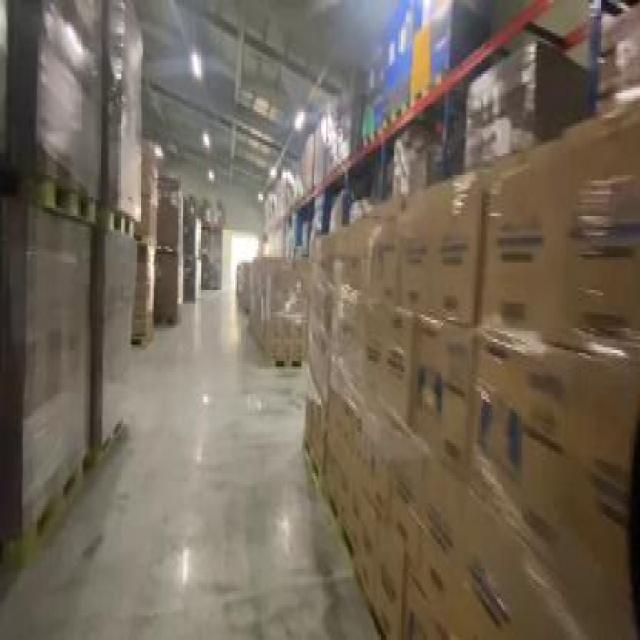box: (306, 145, 639, 637), (1, 3, 136, 574), (460, 41, 585, 194), (357, 0, 461, 115), (231, 252, 311, 372), (155, 175, 203, 331), (180, 180, 226, 301), (303, 82, 362, 172), (131, 131, 155, 342), (386, 126, 440, 205)
